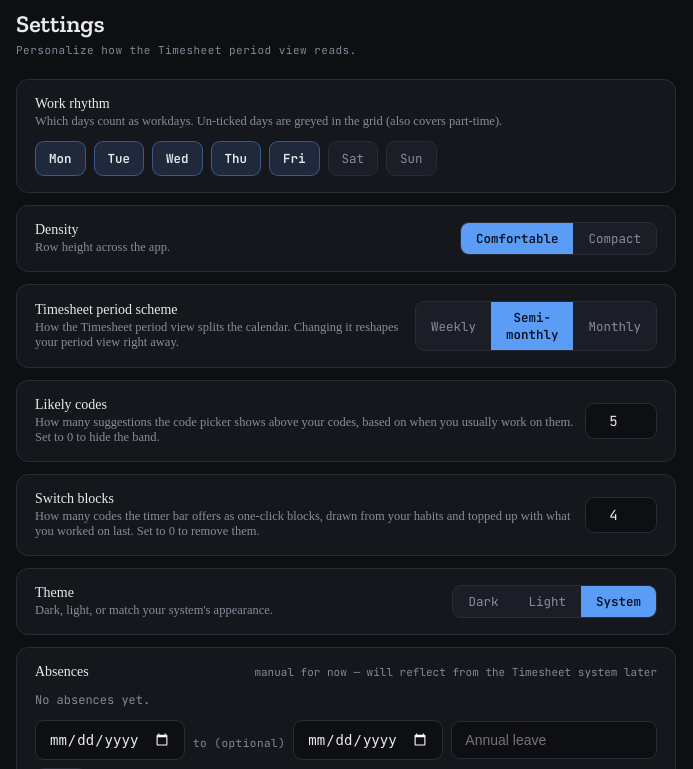
Test: SettingsScreen — accessibility › acknowledges a saved preference change with a transient status
The width and height of the screenshot is (693, 769).
What coordinates should you click on to do the following:
click the radio button labelled "Compact"
I would click on:
 (615, 238)
Its box is [574,223,656,254].
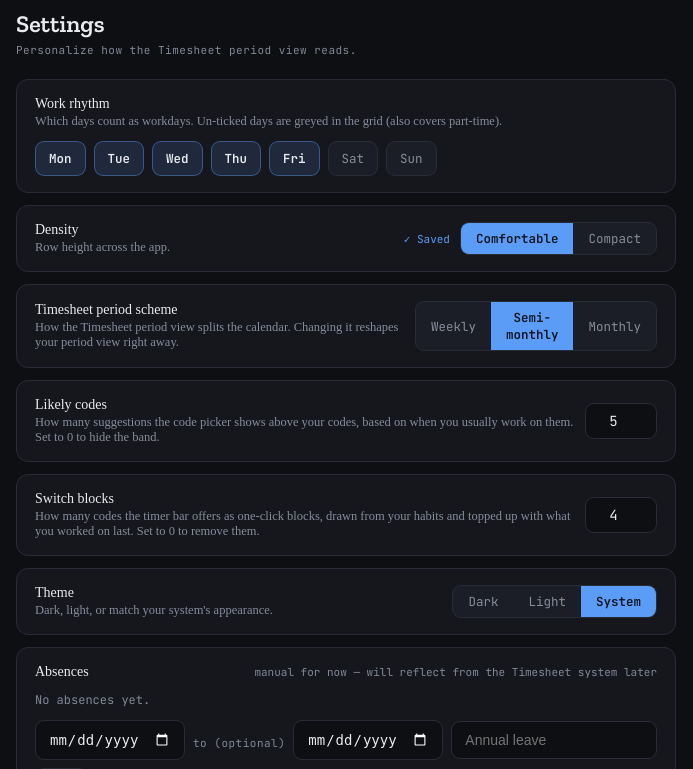
Now the message shows "Saved", box [404,232,450,246]
